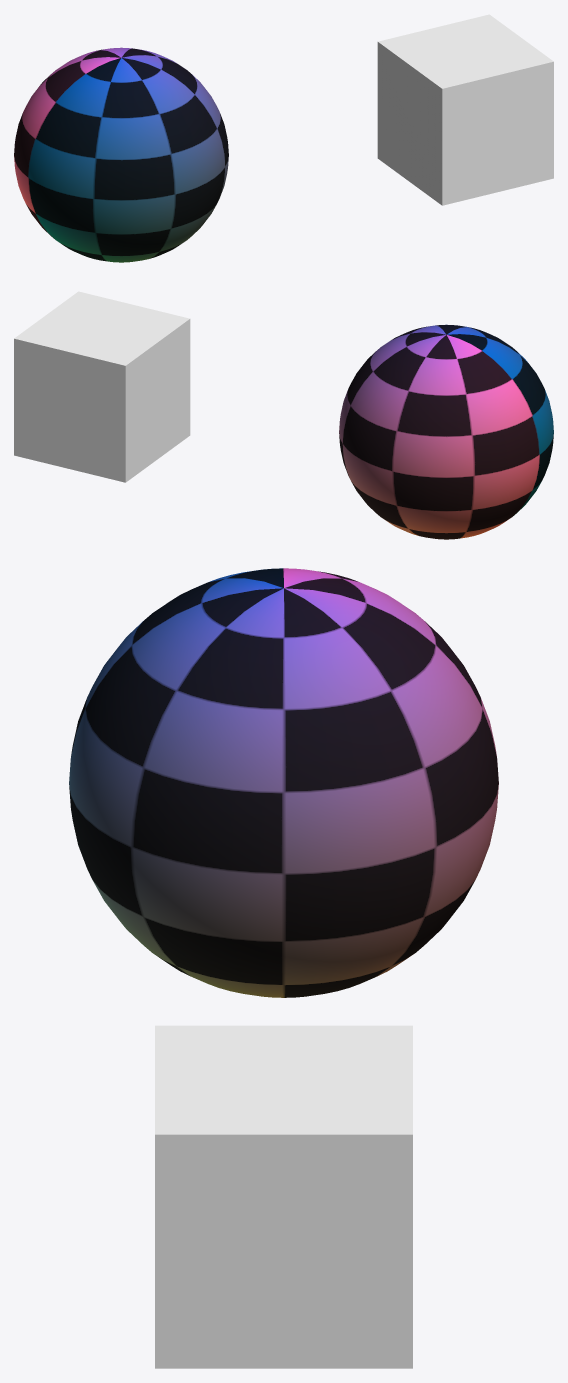
File: demo_scene.glb
3 renders of one model, top to bottom at view 1: azimuth 30°, elevation 25°; view 2: azimuth 150°, elevation 25°; view 3: azimuth 270°, elevation 25°, orthographic. The views are drawn at different scales.
Parts seen in each view (by area): view 1: Ball, Cube; view 2: Ball, Cube; view 3: Ball, Cube.
Part boxes in pixels (bbox=[...]): Ball: bbox=[14, 47, 228, 262]; Cube: bbox=[377, 14, 553, 205]; Ball: bbox=[339, 324, 553, 539]; Cube: bbox=[14, 291, 190, 482]; Ball: bbox=[69, 568, 498, 997]; Cube: bbox=[155, 1025, 412, 1368].
Size of what is drawn, in the model's own units: 5.3 by 2 by 2.
Materials: 2 (1 with a texture image).
